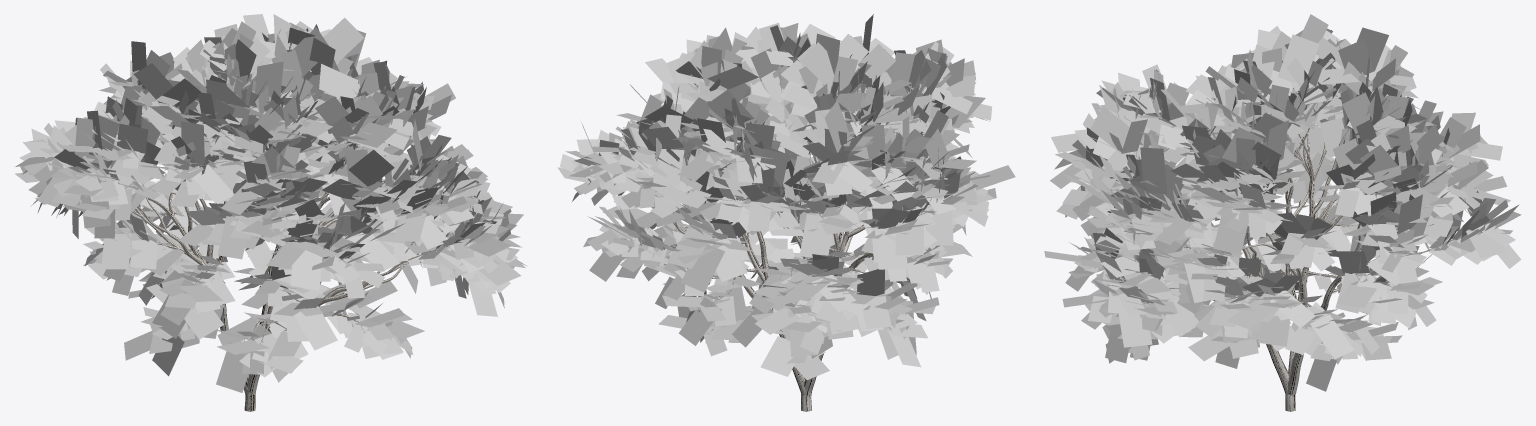
Rendered from Drzewo TESLAfbx.fbx.
3 views of the same model, side by side, from view 1: azimuth 30°, elevation 25°; view 2: azimuth 150°, elevation 25°; view 3: azimuth 270°, elevation 25° (orthographic).
Visible parts, largest first — view 1: leaves, tree; view 2: leaves, tree; view 3: leaves, tree.
Boxes of the visible parts, x1,y1,x2,y2 form: leaves: (15, 14, 527, 392); tree: (102, 89, 473, 411); leaves: (557, 14, 1015, 379); tree: (597, 88, 926, 411); leaves: (1044, 14, 1521, 391); tree: (1085, 82, 1461, 411).
Size of the model in its own units: 1173 by 969 by 1184.
